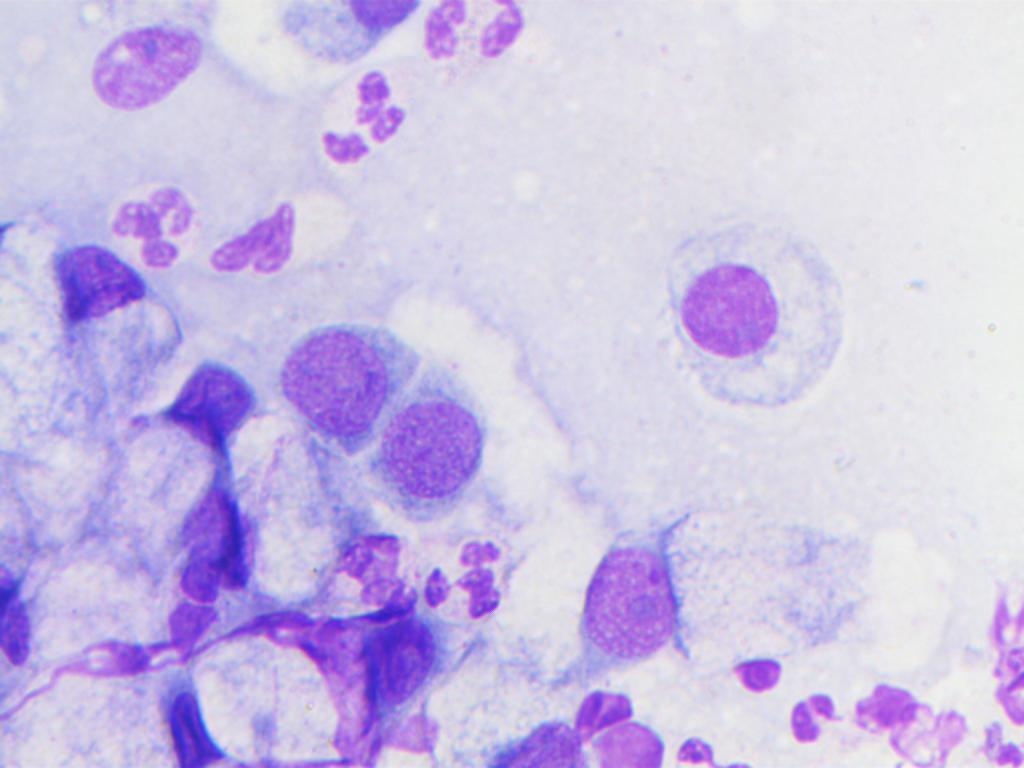epithelial: (663, 208, 851, 416), (75, 2, 212, 129), (382, 367, 486, 520), (277, 322, 387, 455)
goblet_cell: (577, 509, 879, 665), (150, 582, 451, 694), (119, 346, 248, 590), (179, 448, 360, 606), (47, 249, 195, 418)
neutrophil: (213, 186, 366, 288), (303, 67, 431, 168), (417, 528, 514, 634), (96, 176, 201, 267), (422, 1, 531, 66)
